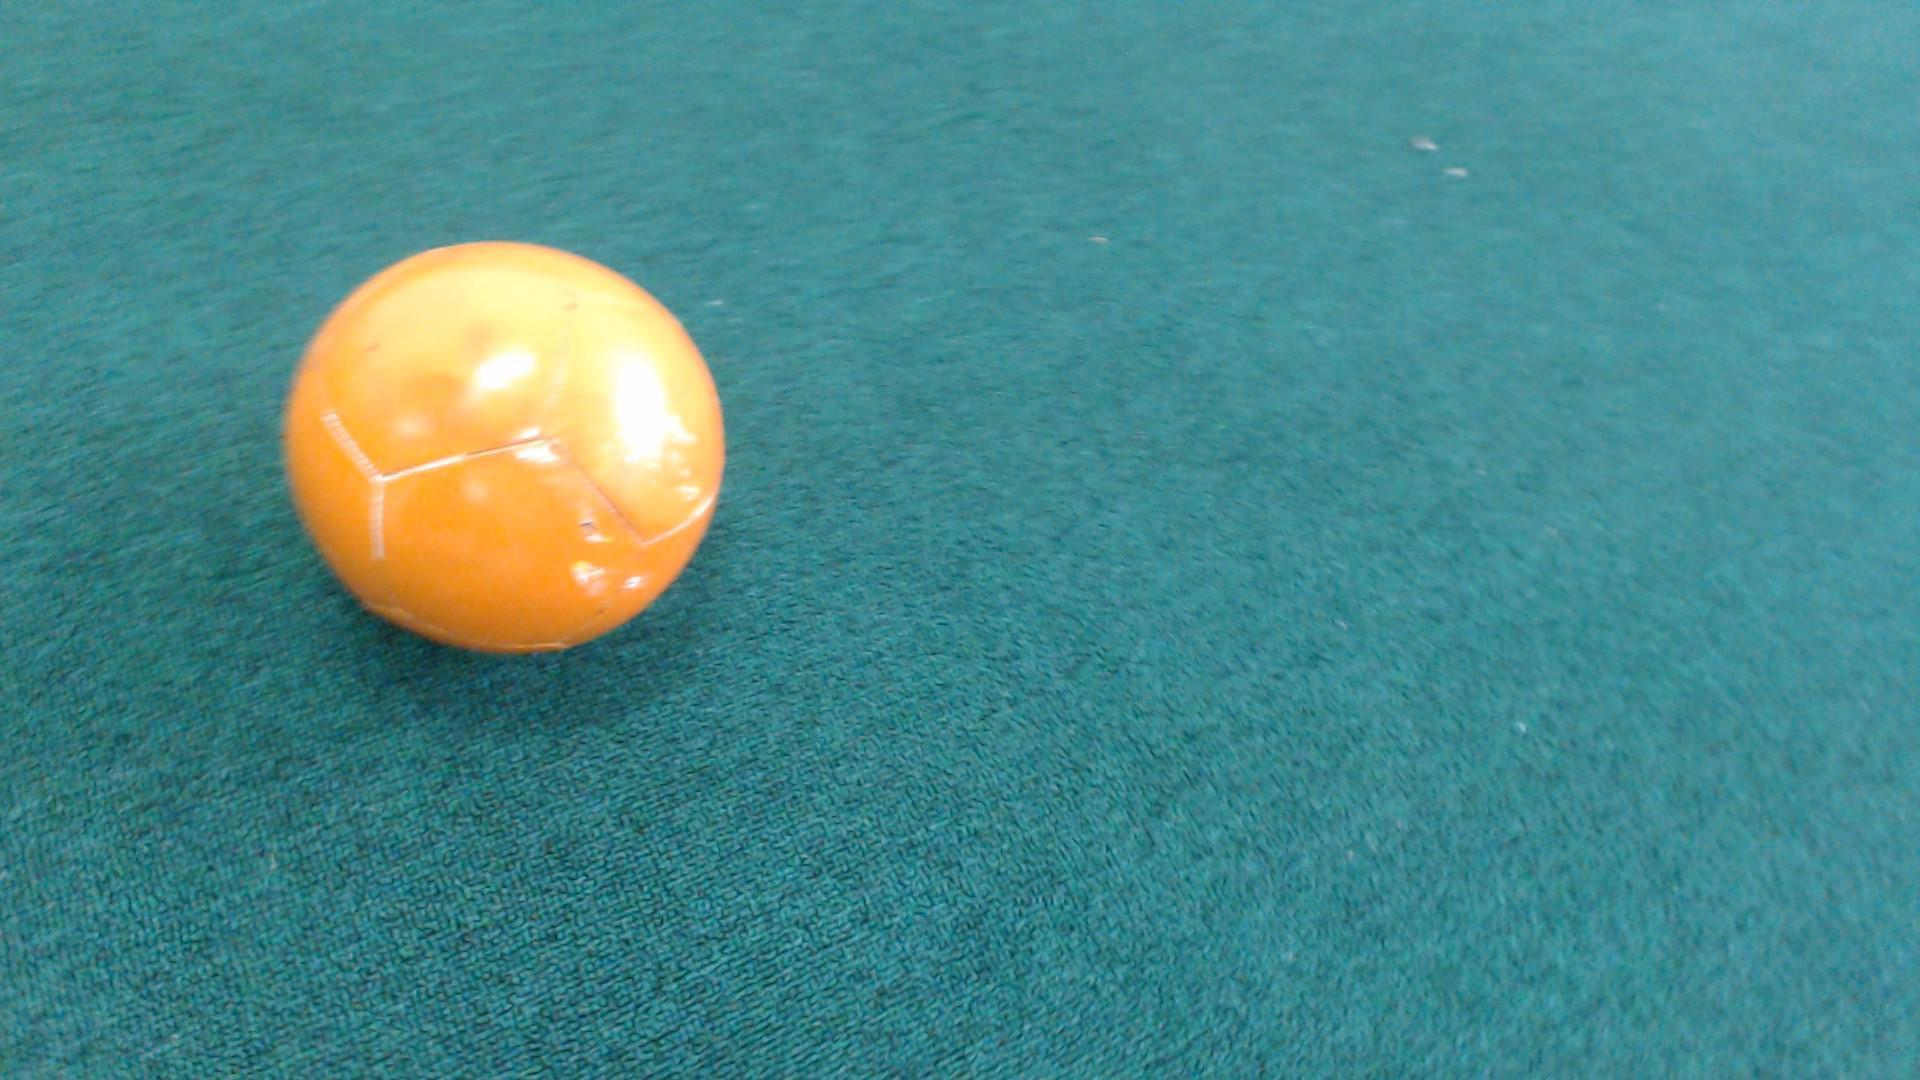bola: (255, 211, 758, 682)
